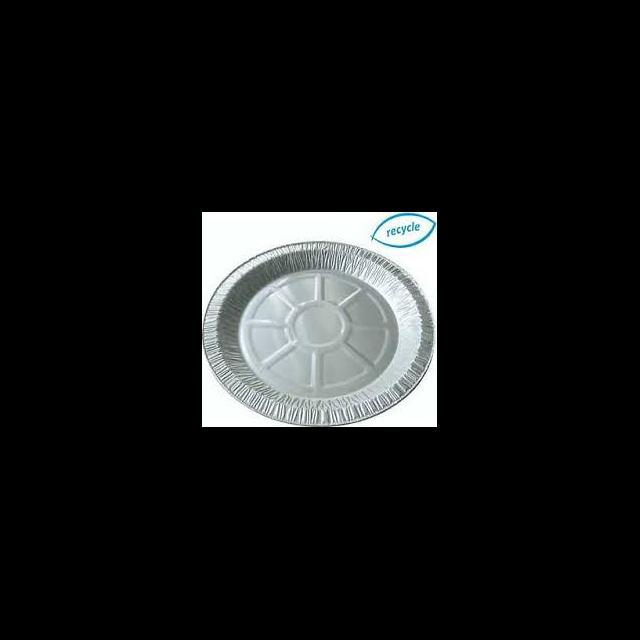metal: (202, 238, 434, 426)
